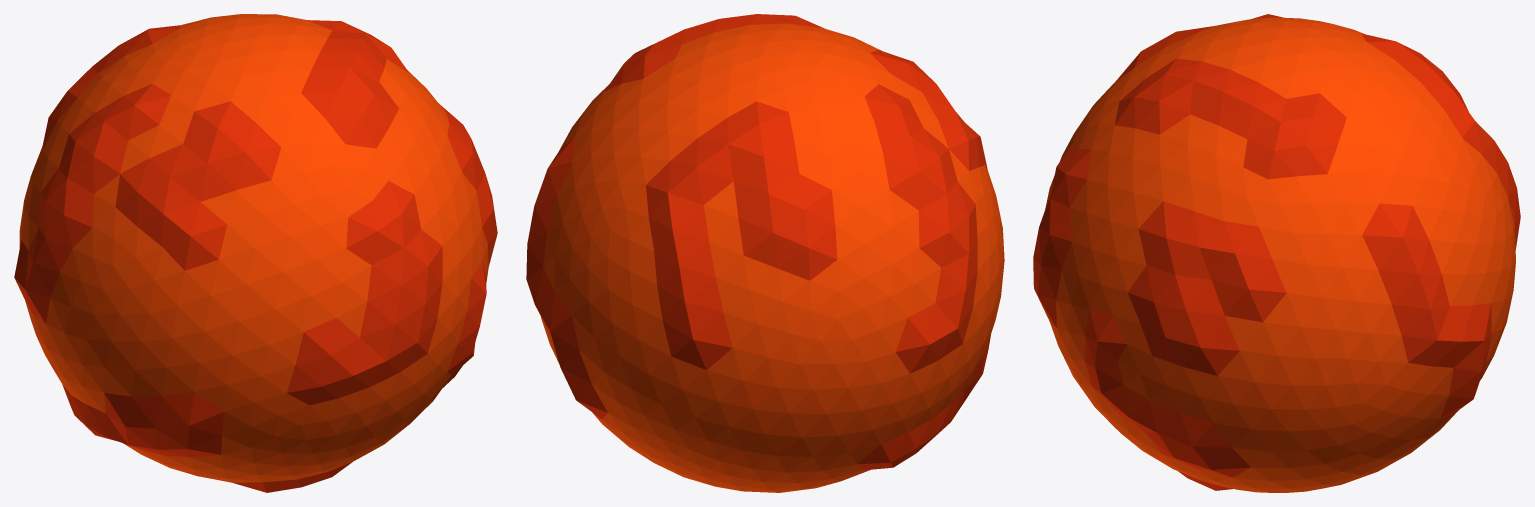
File: Solari.obj
3 renders of one model, left to right at view 1: azimuth 30°, elevation 25°; view 2: azimuth 150°, elevation 25°; view 3: azimuth 270°, elevation 25°, orthographic.
Visible parts, largest first — view 1: Icosphere_Icosphere.001; view 2: Icosphere_Icosphere.001; view 3: Icosphere_Icosphere.001.
Boxes of the visible parts, bbox=[...] form: Icosphere_Icosphere.001: bbox=[14, 14, 497, 492]; Icosphere_Icosphere.001: bbox=[526, 14, 1004, 492]; Icosphere_Icosphere.001: bbox=[1033, 14, 1520, 492].
Bounding box in the file's own units: 13.55 × 13.43 × 13.69.
